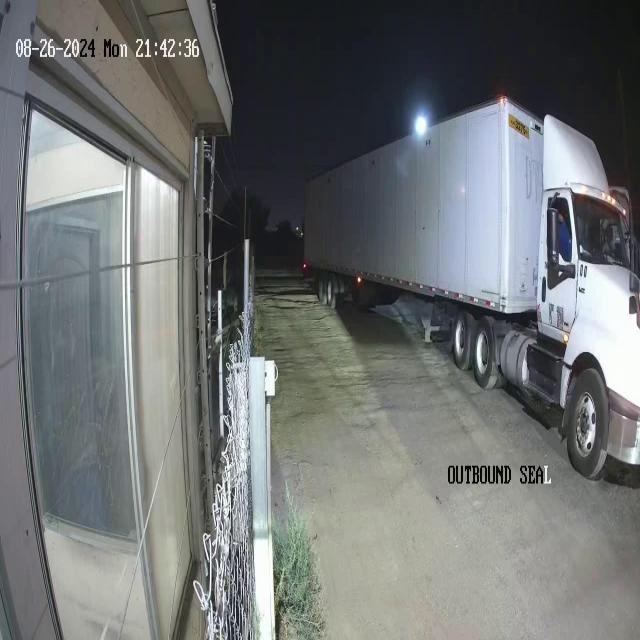TRUCK_IN: (302, 94, 640, 480)
